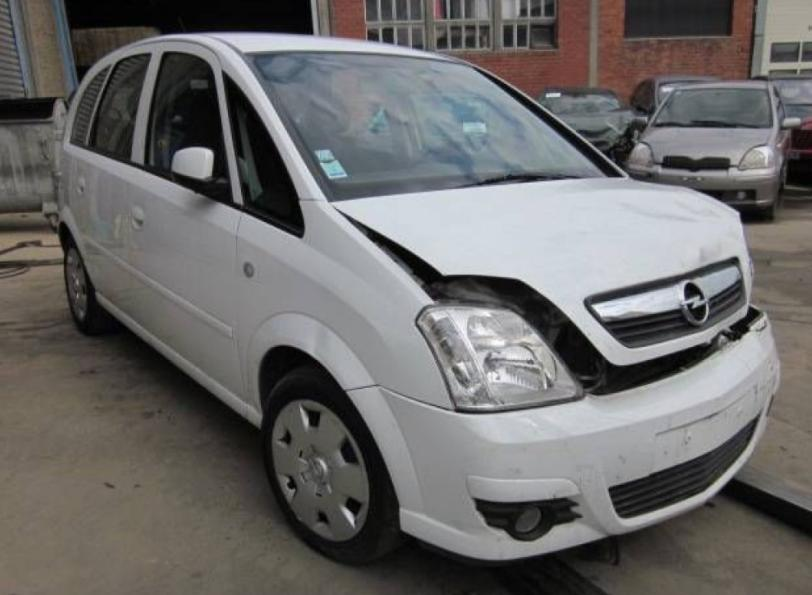Back-door: (68, 41, 160, 314)
Back-wheel: (63, 235, 131, 336)
Back-window: (90, 52, 150, 162), (71, 67, 109, 144)
Fender: (230, 199, 456, 429)
Front-bumper: (344, 311, 779, 563)
Front-door: (127, 41, 244, 400)
Front-wheel: (261, 362, 416, 568)
Front-window: (222, 70, 305, 239), (149, 52, 227, 176)
Grille: (587, 259, 745, 349)
Headlight: (414, 305, 583, 414)
Hood: (329, 176, 755, 368)
Mirror: (170, 144, 230, 199)
Quarter-panel: (58, 138, 83, 254)
Rocker-panel: (96, 292, 242, 419)
Roof: (188, 34, 472, 65)
Windshield: (242, 51, 623, 202)
